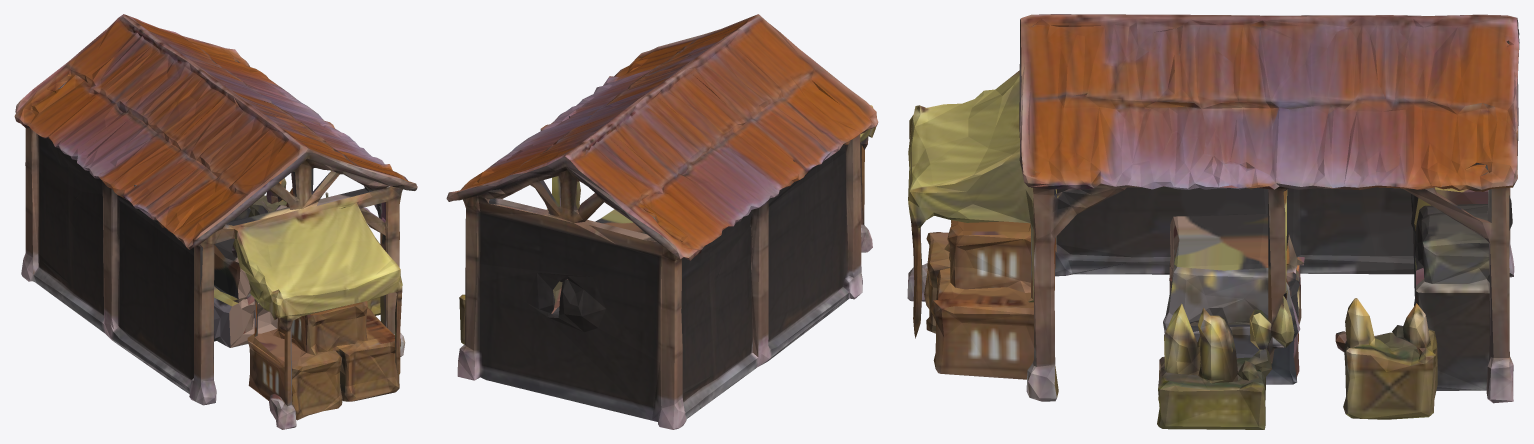
Rendered from war_munitions_1117.glb.
3 renders of one model, left to right at view 1: azimuth 30°, elevation 25°; view 2: azimuth 150°, elevation 25°; view 3: azimuth 270°, elevation 25°, orthographic. The views are drawn at different scales.
Visible parts, largest first — view 1: tmpi2k5zdhi.ply; view 2: tmpi2k5zdhi.ply; view 3: tmpi2k5zdhi.ply.
Part boxes in pixels (bbox=[...]): tmpi2k5zdhi.ply: bbox=[14, 14, 417, 429]; tmpi2k5zdhi.ply: bbox=[446, 14, 878, 429]; tmpi2k5zdhi.ply: bbox=[907, 14, 1519, 429].
Bounding box in the file's own units: 1.33 × 1.15 × 1.99.
Materials: 1 (1 with a texture image).
